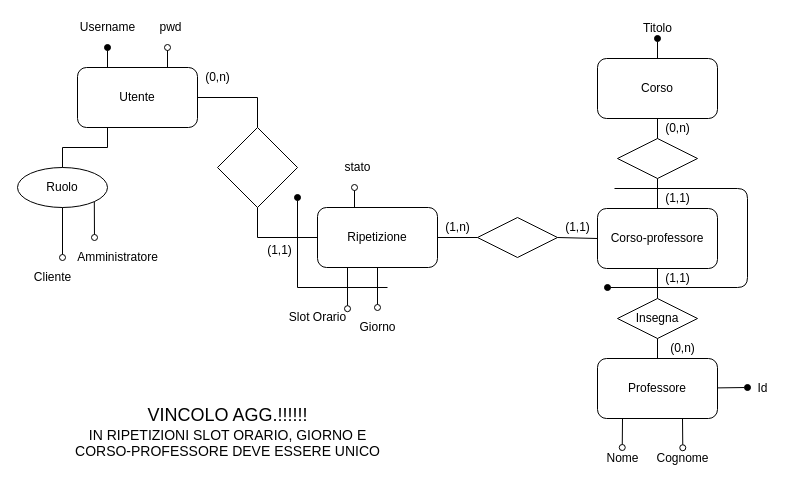
This 795x485 diagram has some shape labels left out. The box of each missing label's shape, as (x1, y1, x2, y2) in pixels:
con: (216, 126, 298, 208)
di: (476, 216, 558, 258)
Presente: (616, 138, 698, 178)
